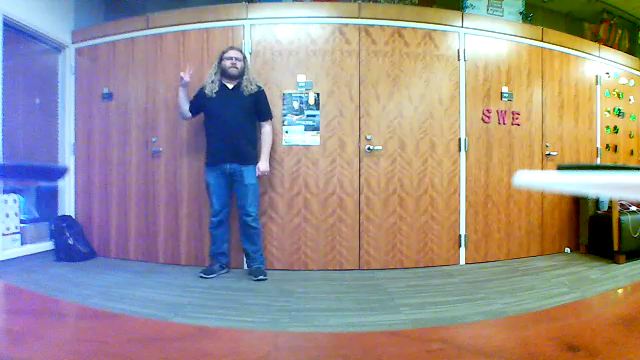peace: (175, 60, 198, 89)
